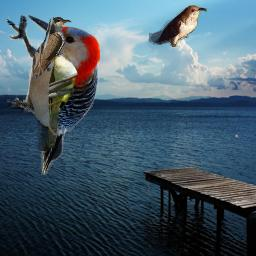Cuckoo: (45, 49, 78, 148), (32, 17, 81, 79), (149, 5, 207, 47)
Woodpecker: (7, 15, 100, 175)
